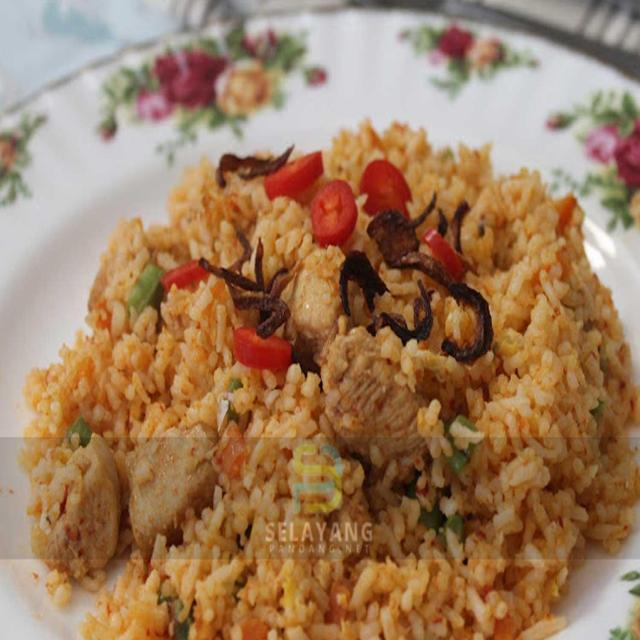Nasi Goreng: (19, 119, 637, 636)
